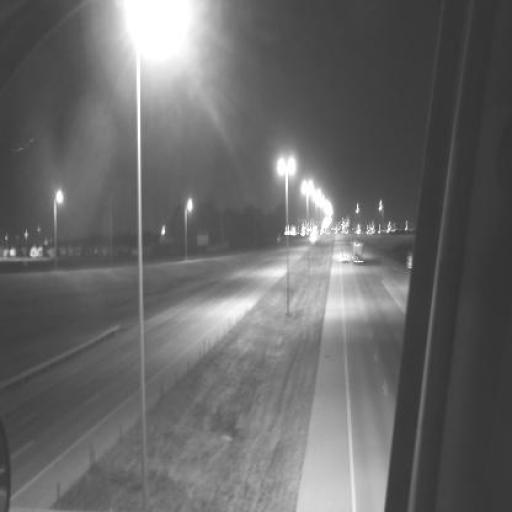street light: (135, 1, 178, 506), (278, 158, 296, 318), (302, 182, 312, 278), (54, 192, 64, 268), (184, 200, 192, 254)
